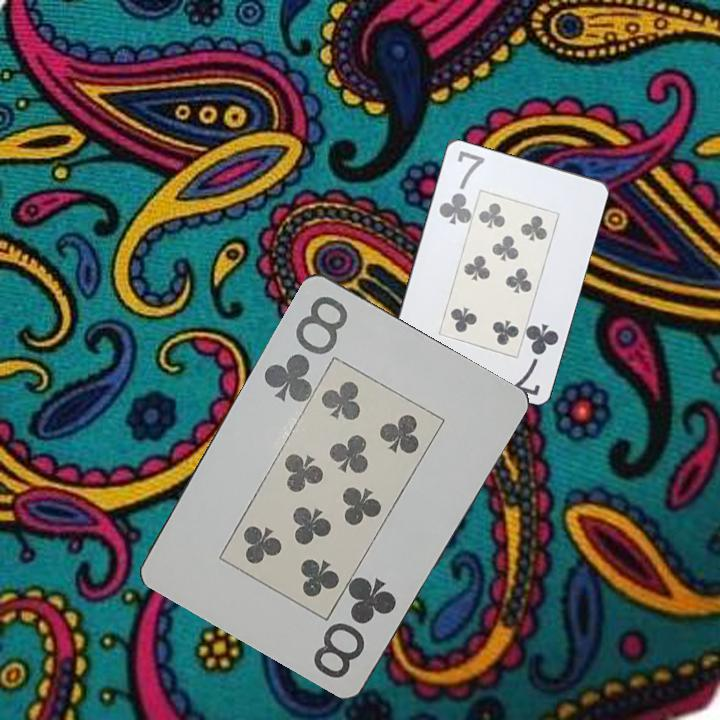7c: (509, 320, 562, 399), (435, 147, 486, 227)
8c: (259, 291, 351, 405), (309, 572, 400, 681)
